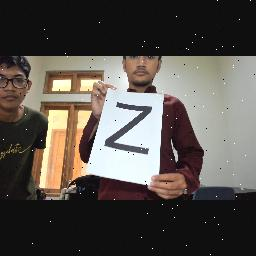z: (100, 96, 162, 162)
